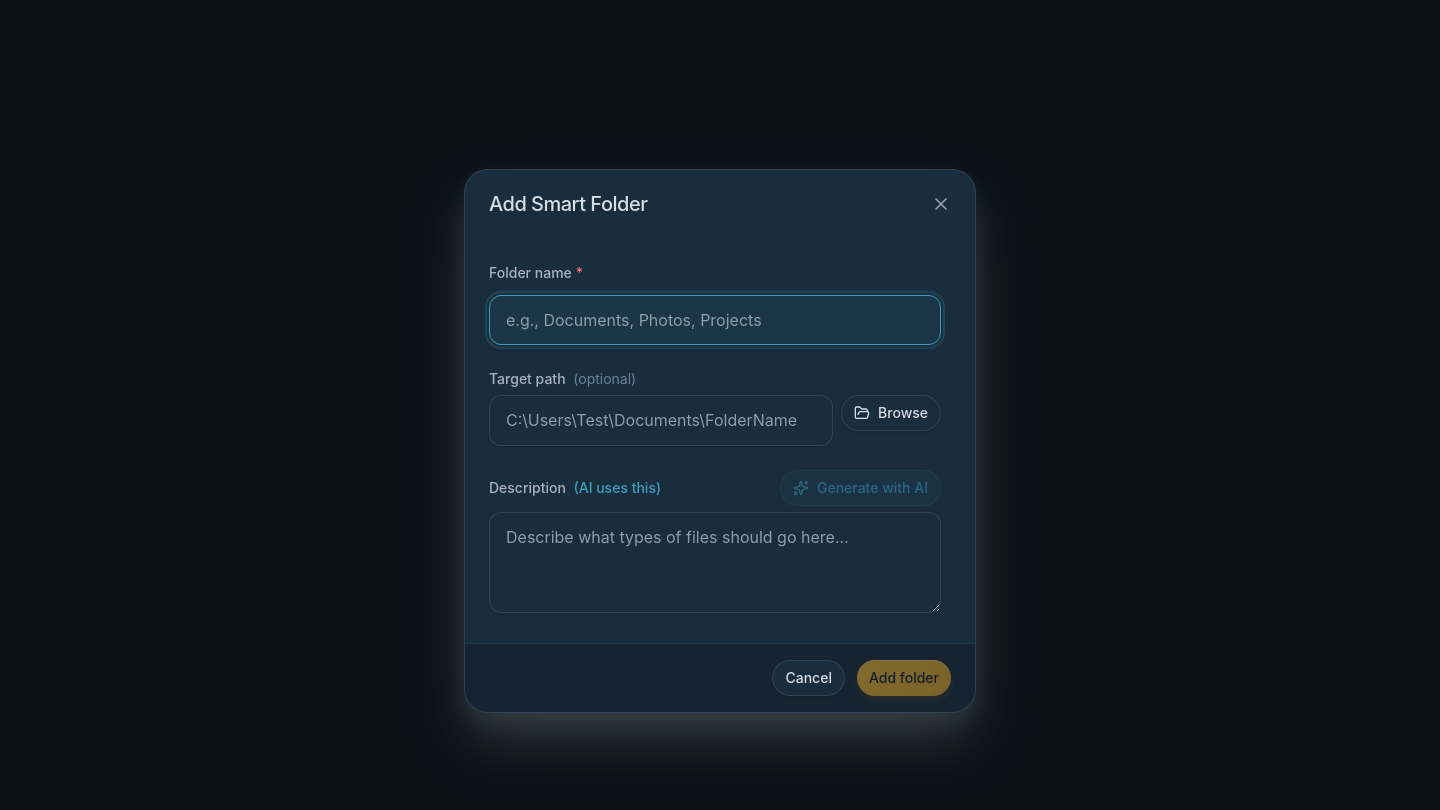
Test case: AddSmartFolderModal — Generate with AI feedback › timed-out response surfaces a hint asking the user to retry or type manually
This screenshot has width=1440, height=810.
Type "Resumes" into the field labelled "Folder name*".
click(715, 320); type("Resumes")  # box left=489, top=295, right=941, bottom=345
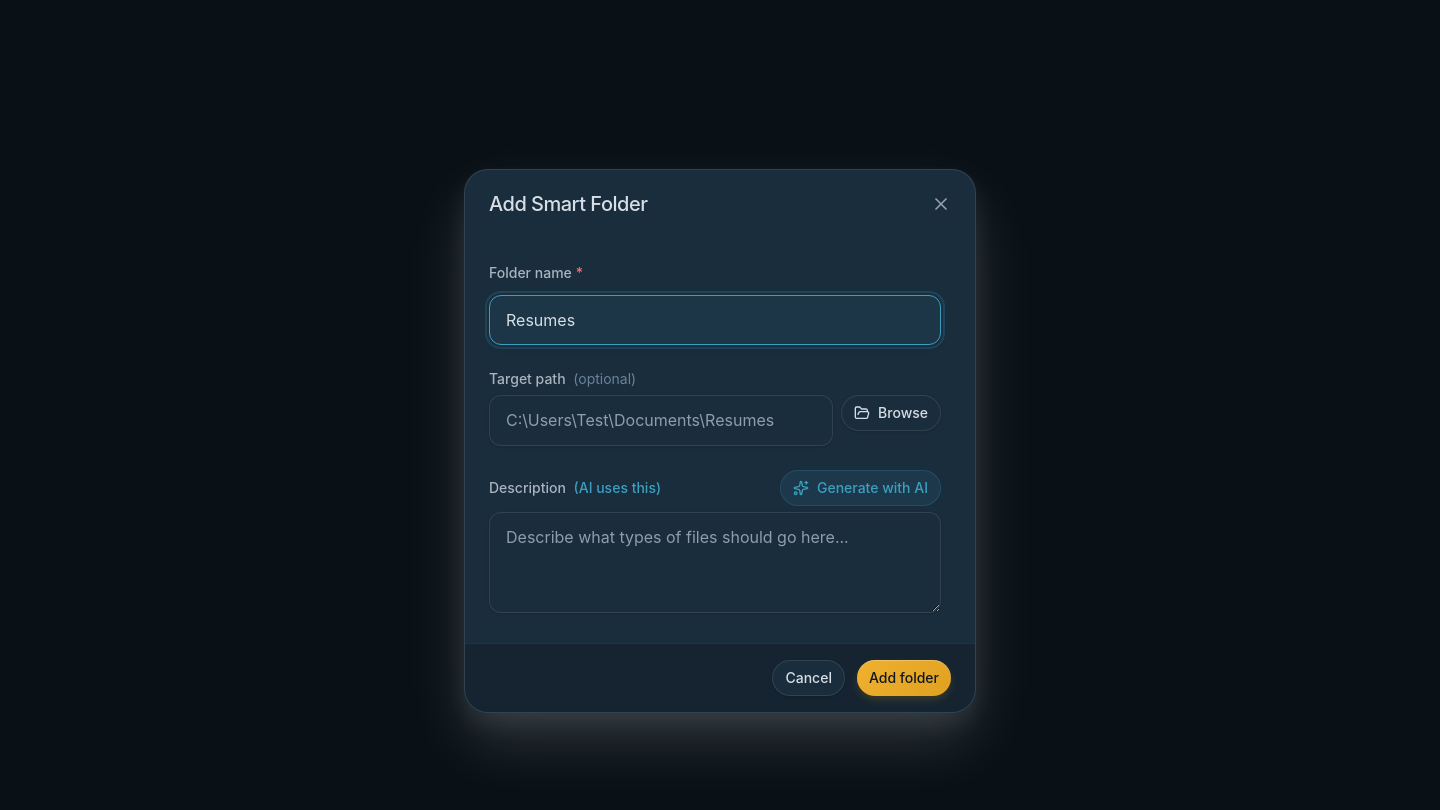
Click the button "Generate with AI".
click(860, 488)  # box left=780, top=470, right=941, bottom=506
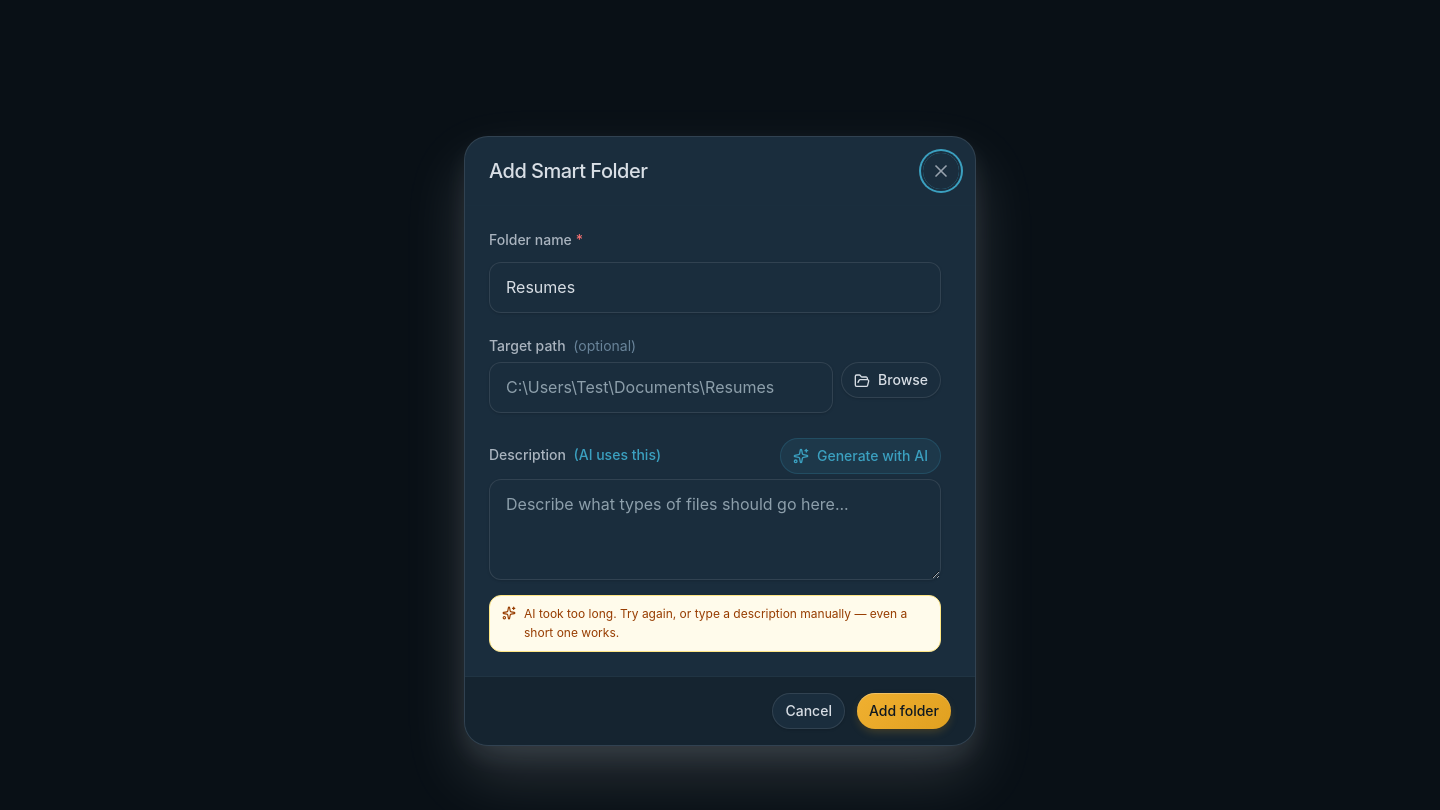
expect the message shows "AI took too long": met, box left=524, top=606, right=907, bottom=640
